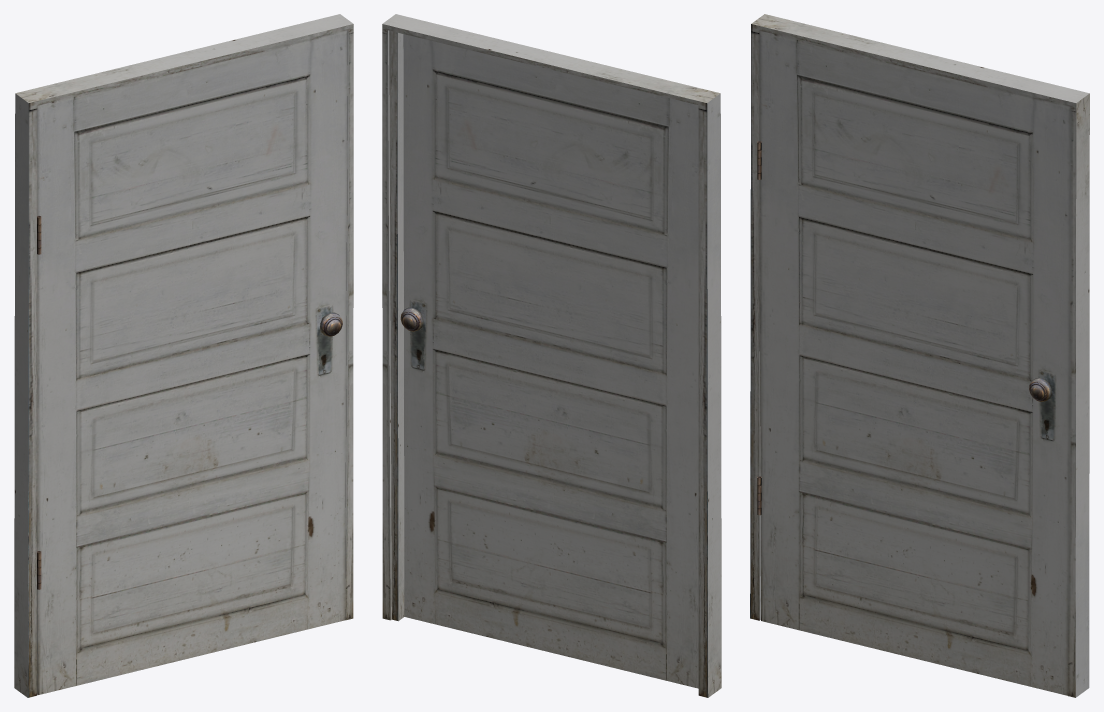
Rendered from Door_02.FBX.
The picture shows the model from 3 angles, left to right: view 1: azimuth 30°, elevation 25°; view 2: azimuth 150°, elevation 25°; view 3: azimuth 330°, elevation 25°; orthographic projection.
Visible parts, largest first — view 1: Door_02, Door_02_Frame; view 2: Door_02, Door_02_Frame; view 3: Door_02, Door_02_Frame.
Boxes of the visible parts, bbox=[...] form: Door_02: bbox=[37, 30, 347, 694]; Door_02_Frame: bbox=[14, 14, 353, 697]; Door_02: bbox=[400, 34, 698, 688]; Door_02_Frame: bbox=[382, 14, 721, 697]; Door_02: bbox=[757, 30, 1070, 695]; Door_02_Frame: bbox=[750, 14, 1089, 697].
Bounding box in the file's own units: 127 × 18.6 × 221.
